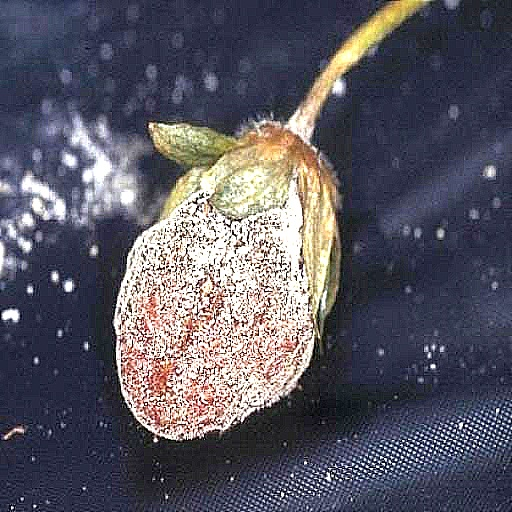Gray Mold: (168, 70, 400, 390)
